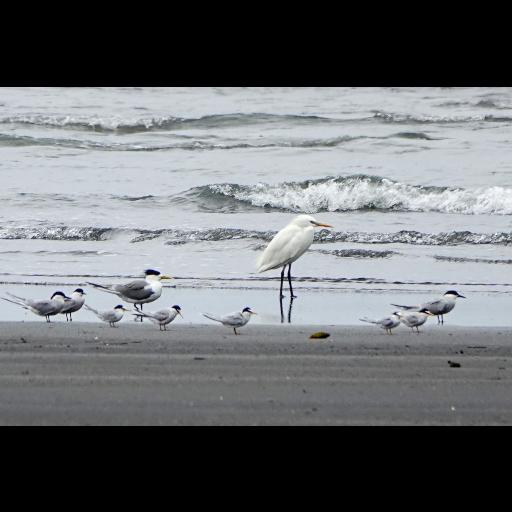chinese_egret: (255, 214, 335, 296)
